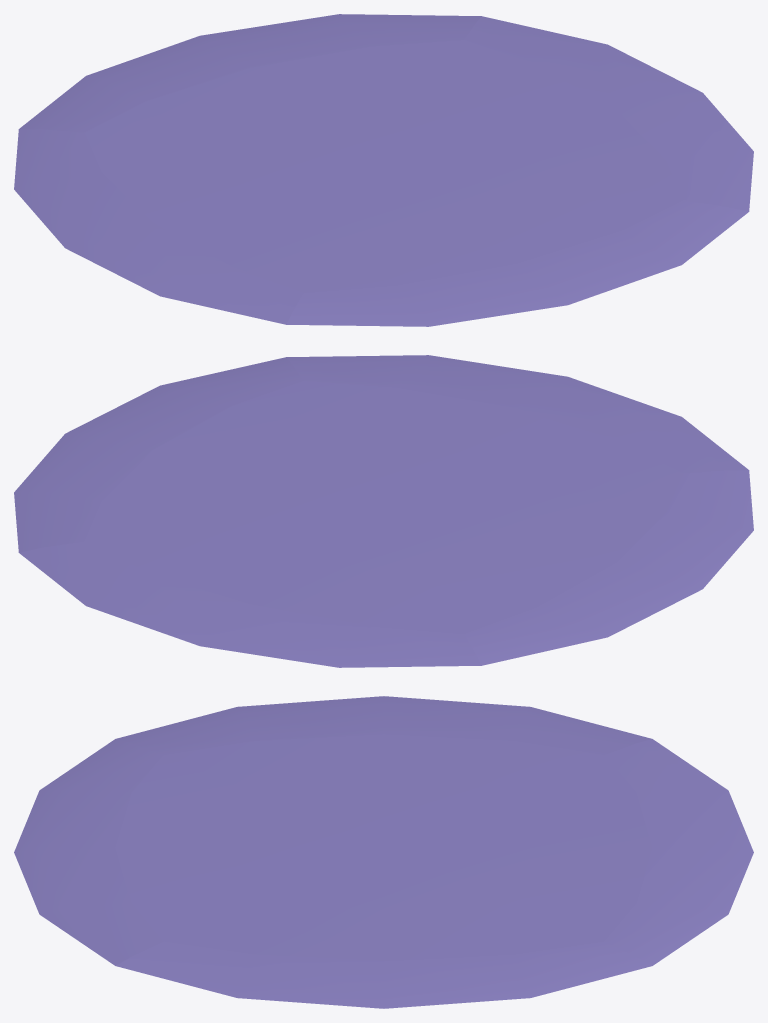
The model's file is alfombra_big.fbx.
3 renders of one model, top to bottom at view 1: azimuth 30°, elevation 25°; view 2: azimuth 150°, elevation 25°; view 3: azimuth 270°, elevation 25°, orthographic.
Parts seen in each view (by area): view 1: aldormbra_big.001; view 2: aldormbra_big.001; view 3: aldormbra_big.001.
Part boxes in pixels (x1,y1,x2,y2): aldormbra_big.001: (14, 14, 753, 326); aldormbra_big.001: (14, 355, 753, 667); aldormbra_big.001: (14, 696, 753, 1008).
Bounding box in the file's own units: 3.98 × 3.98 × 0.0796.
